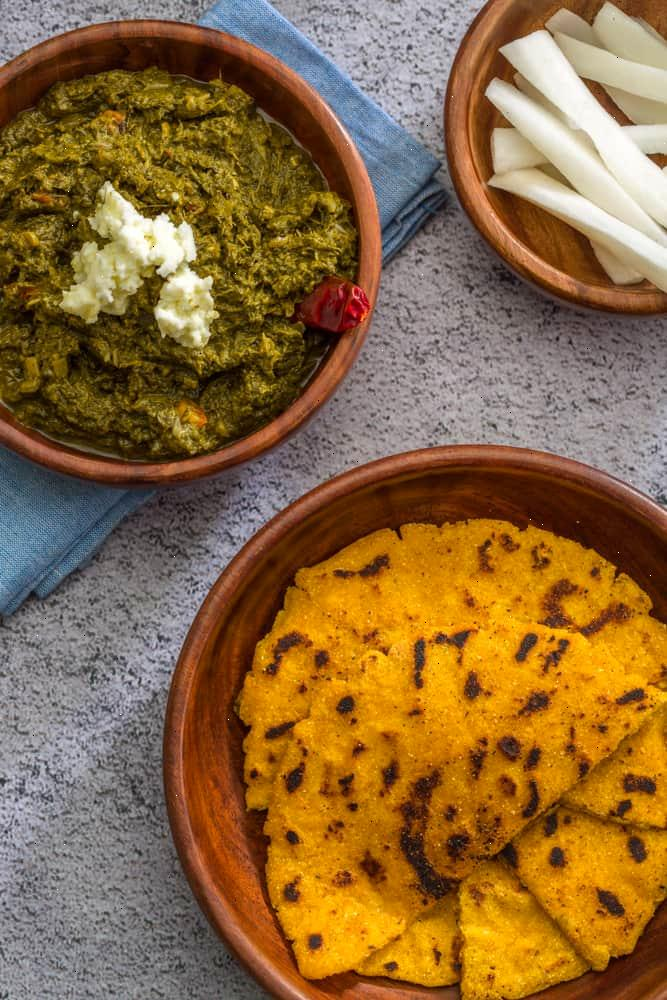saag: (6, 64, 360, 453)
